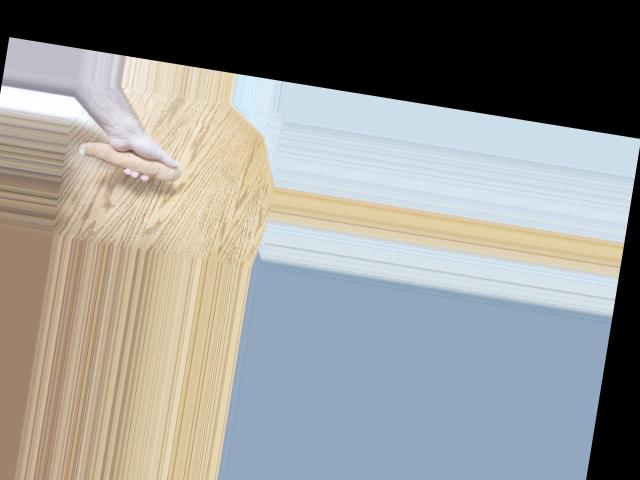sweet_potato: (76, 136, 182, 187)
